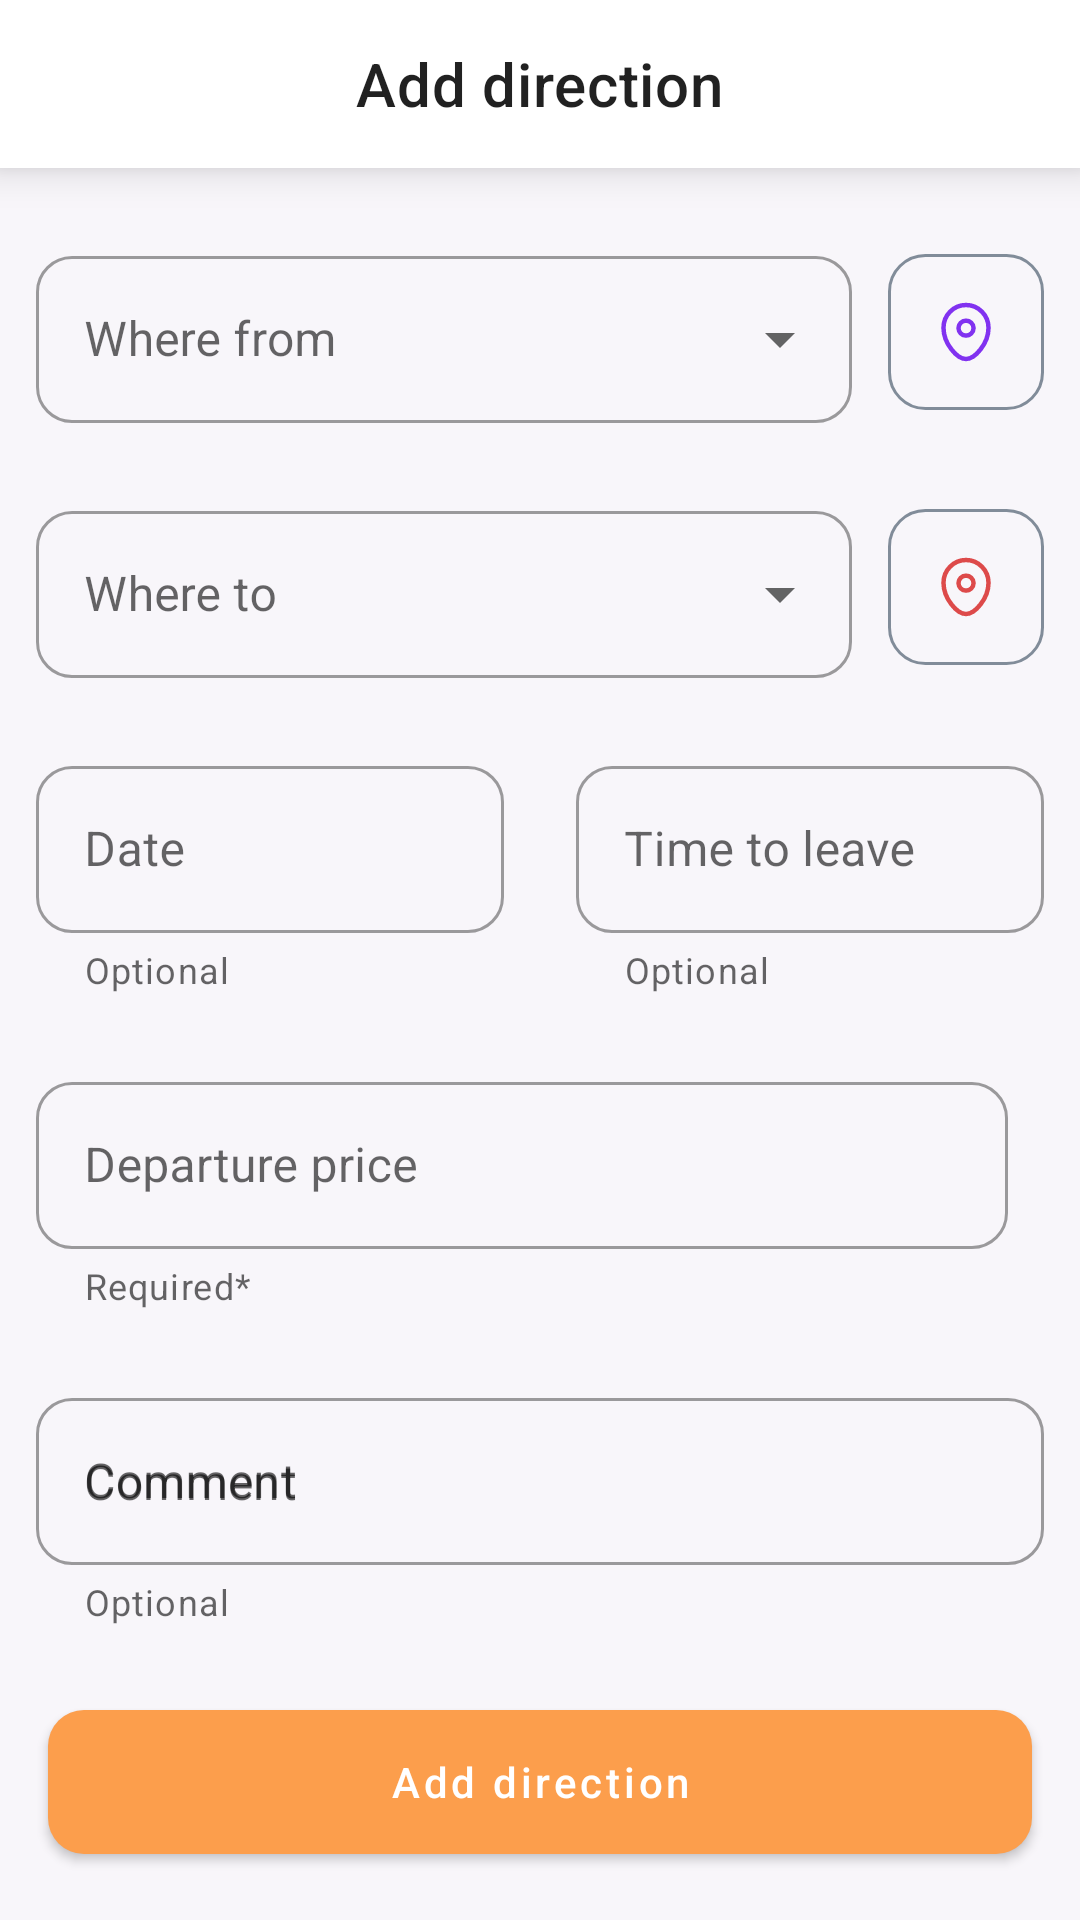

Where icons sit on this 1080px x 1920px app screen, as (x1, y1, x2, y2):
location: (888, 254, 1044, 410), (888, 509, 1044, 665)
